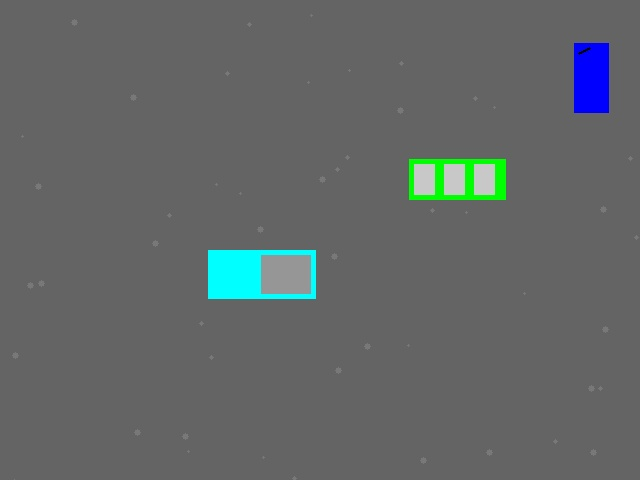bus: (409, 159, 505, 199)
motorcycle: (574, 43, 608, 112)
truck: (208, 250, 315, 298)
